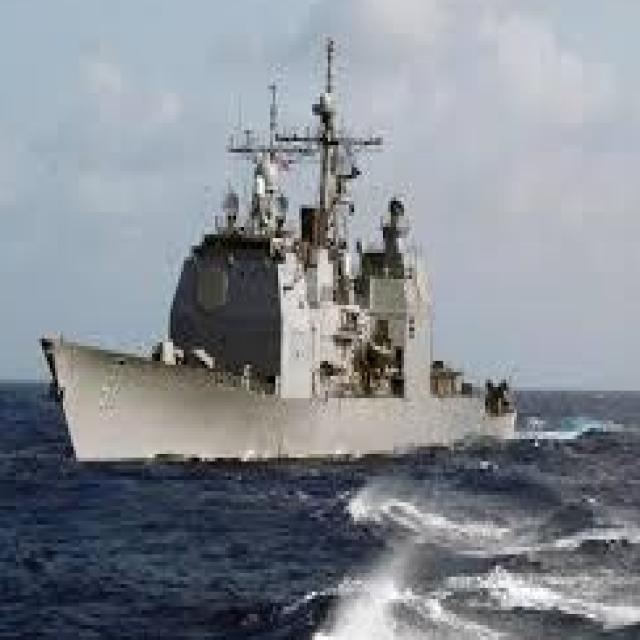navalvessels: (41, 16, 522, 463)
